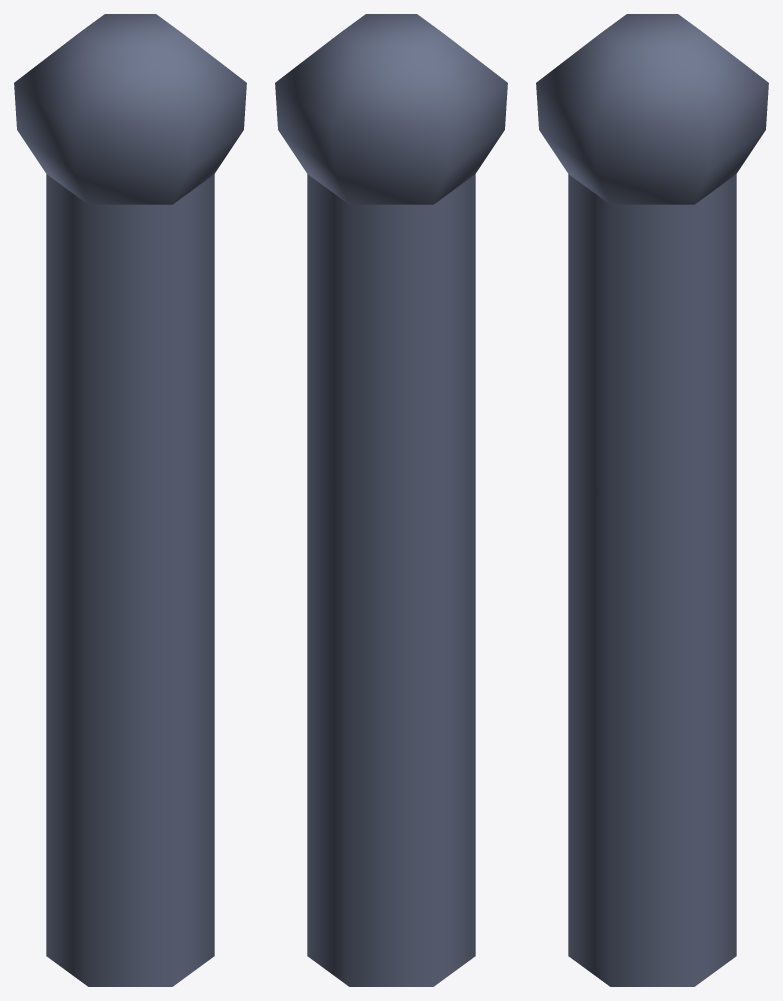
Rendered from Pike.glb.
3 renders of one model, left to right at view 1: azimuth 30°, elevation 25°; view 2: azimuth 150°, elevation 25°; view 3: azimuth 270°, elevation 25°, orthographic.
Visible parts, largest first — view 1: fence_pole; view 2: fence_pole; view 3: fence_pole.
Boxes of the visible parts, left/top/right/bottom form: fence_pole: left=14, top=14, right=246, bottom=986; fence_pole: left=275, top=14, right=507, bottom=986; fence_pole: left=536, top=14, right=768, bottom=986.
Size of the model in its own units: 0.4812 by 2.43 by 0.5556.
